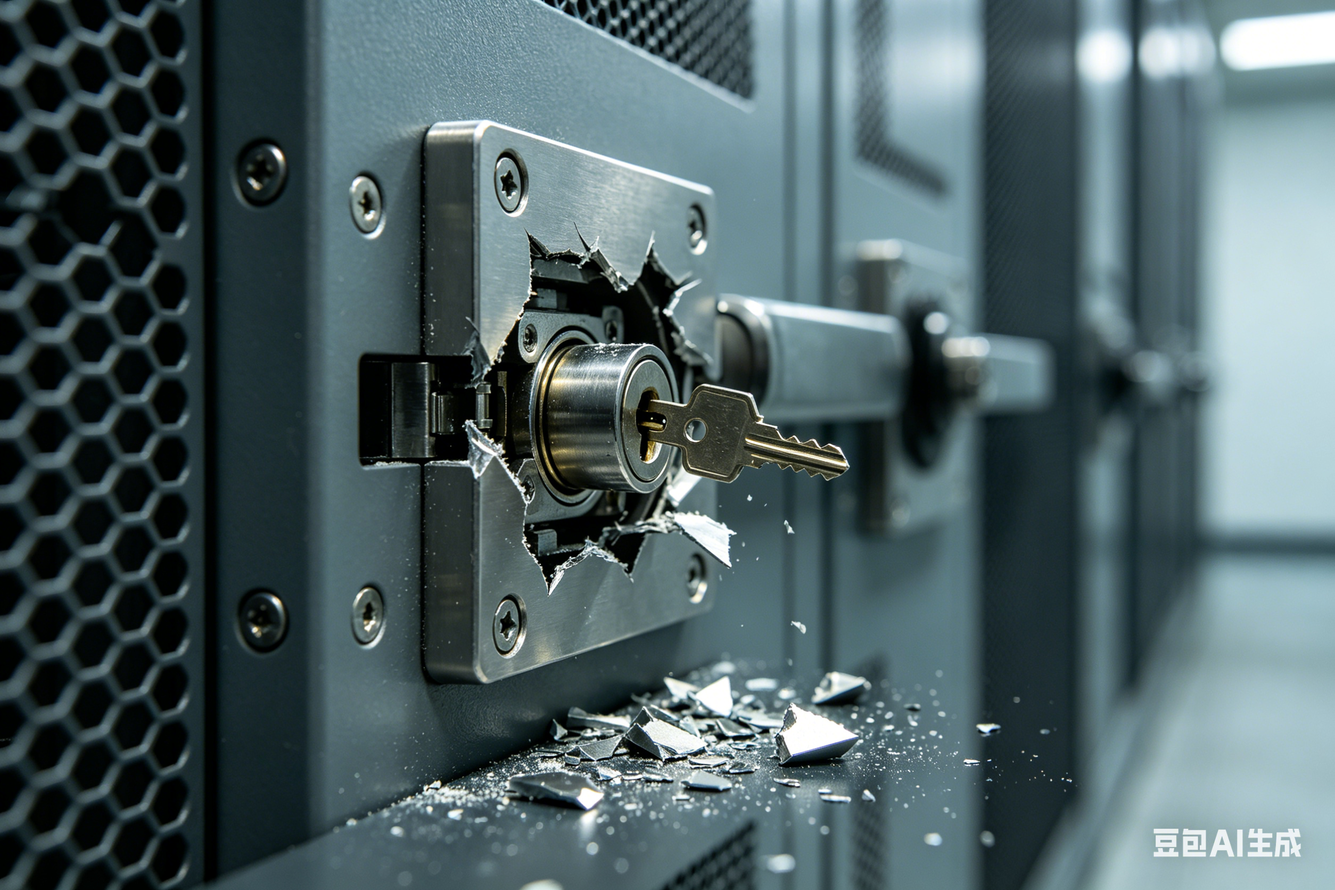BadLock: (407, 332, 732, 566)
